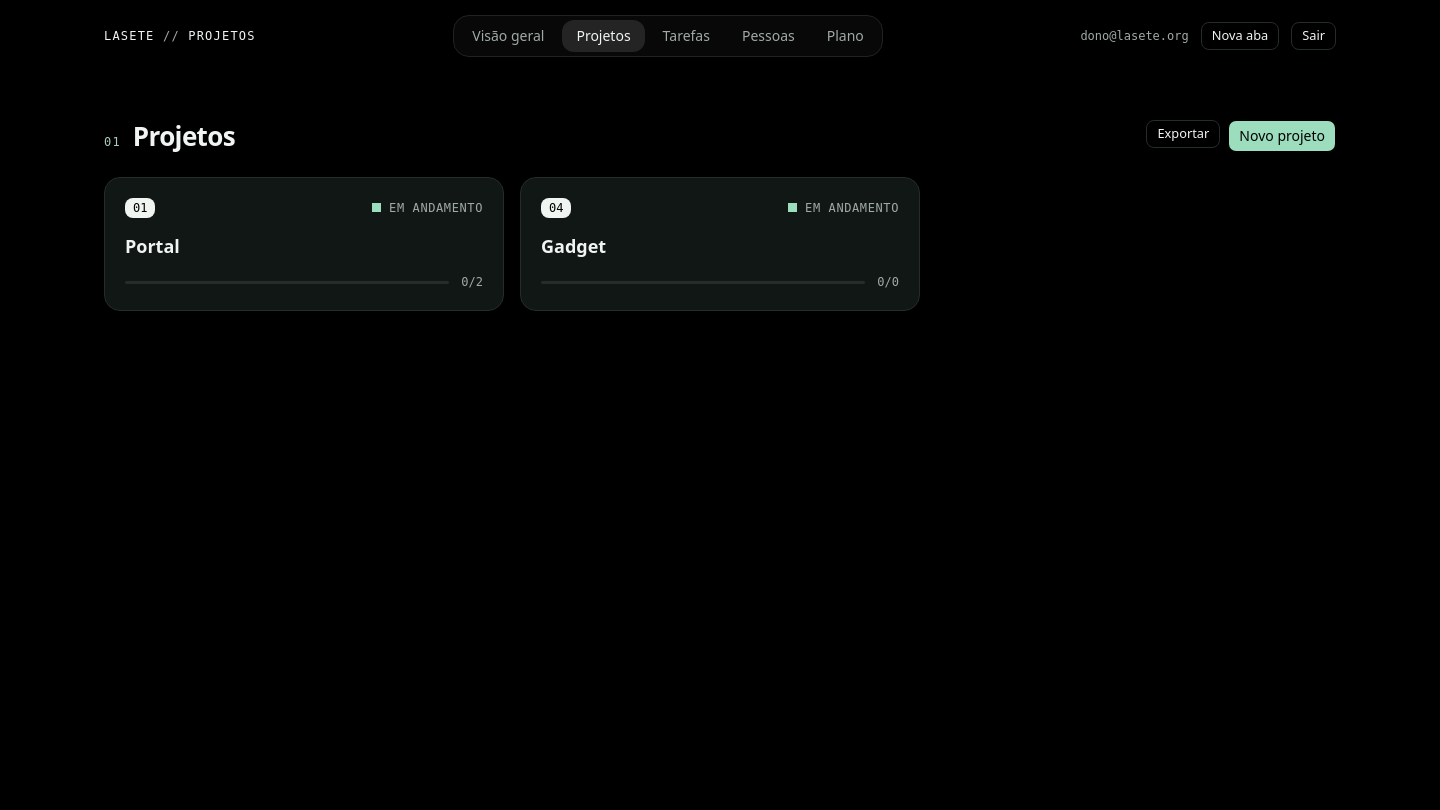
Test: projeto › sem título mostra o erro e não salva
Step 1. Click the button "Novo projeto" → (1282, 136), box x1=1228 y1=120 x2=1336 y2=152
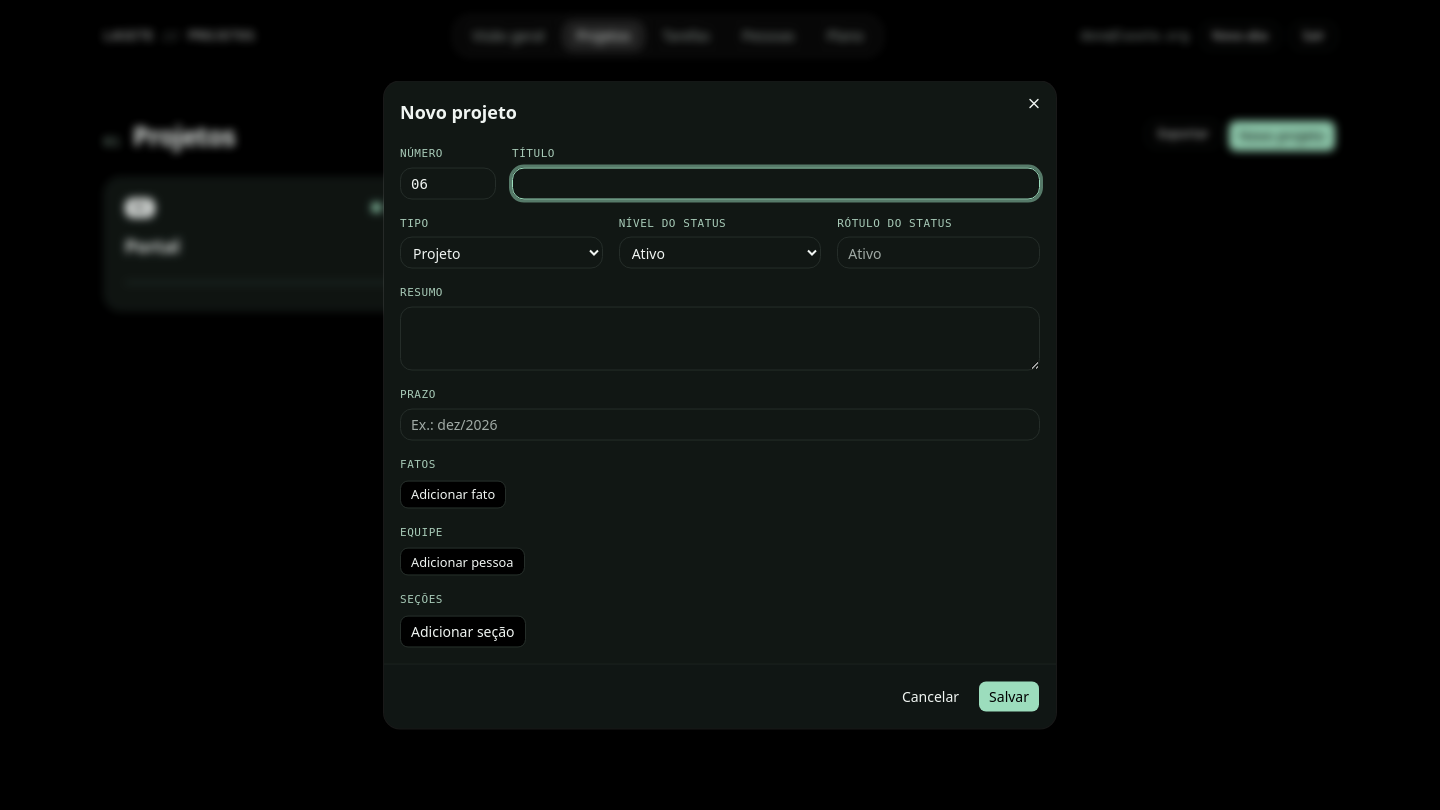
Step 2. Click the button "Salvar" → (1009, 696), box x1=978 y1=680 x2=1040 y2=712
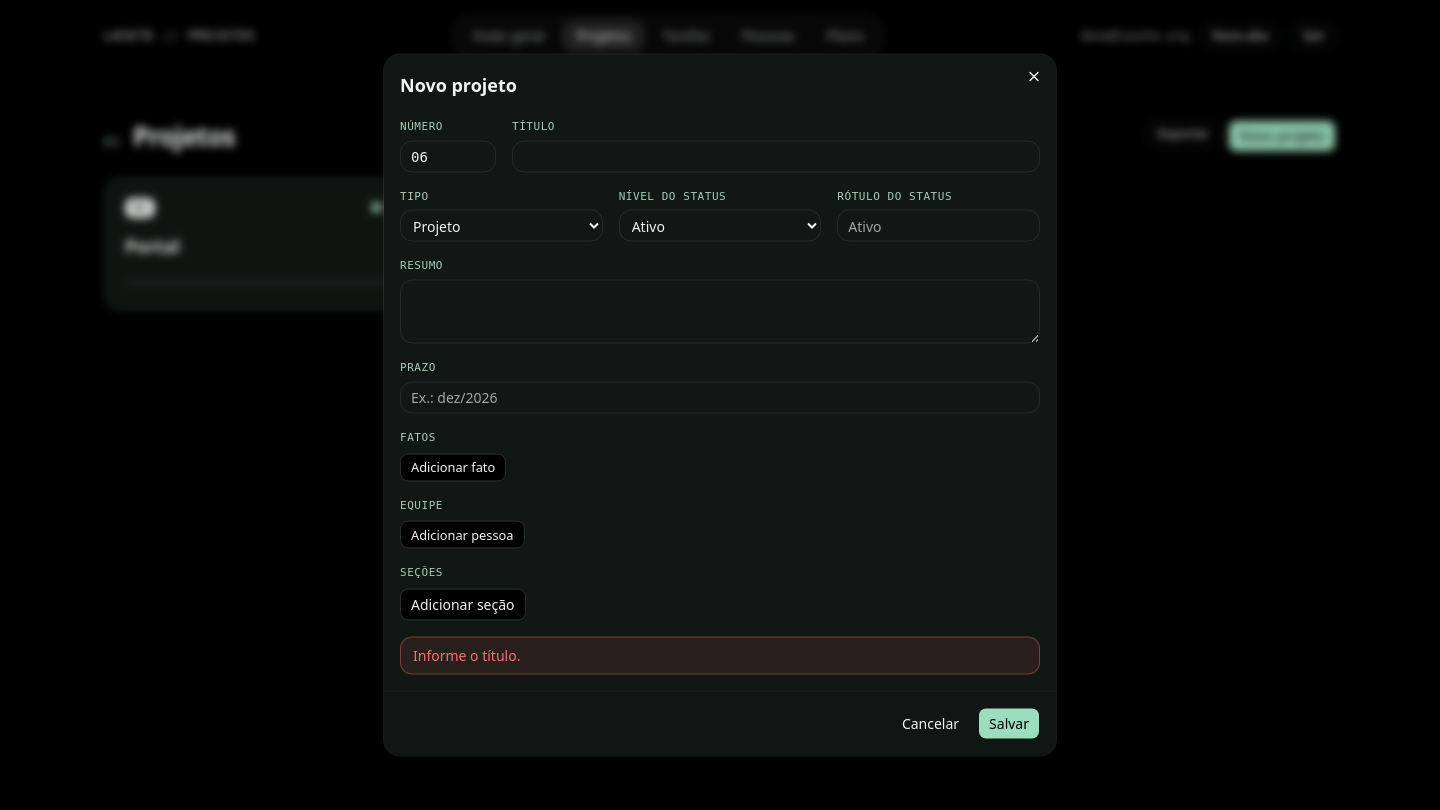
Now the text "Informe o título." is shown, box x1=400 y1=636 x2=1040 y2=674
